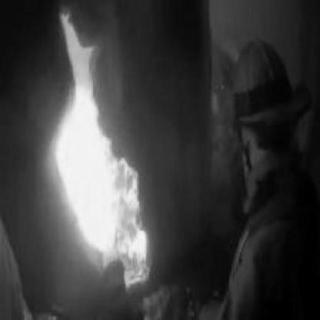Fire: (50, 6, 152, 273)
